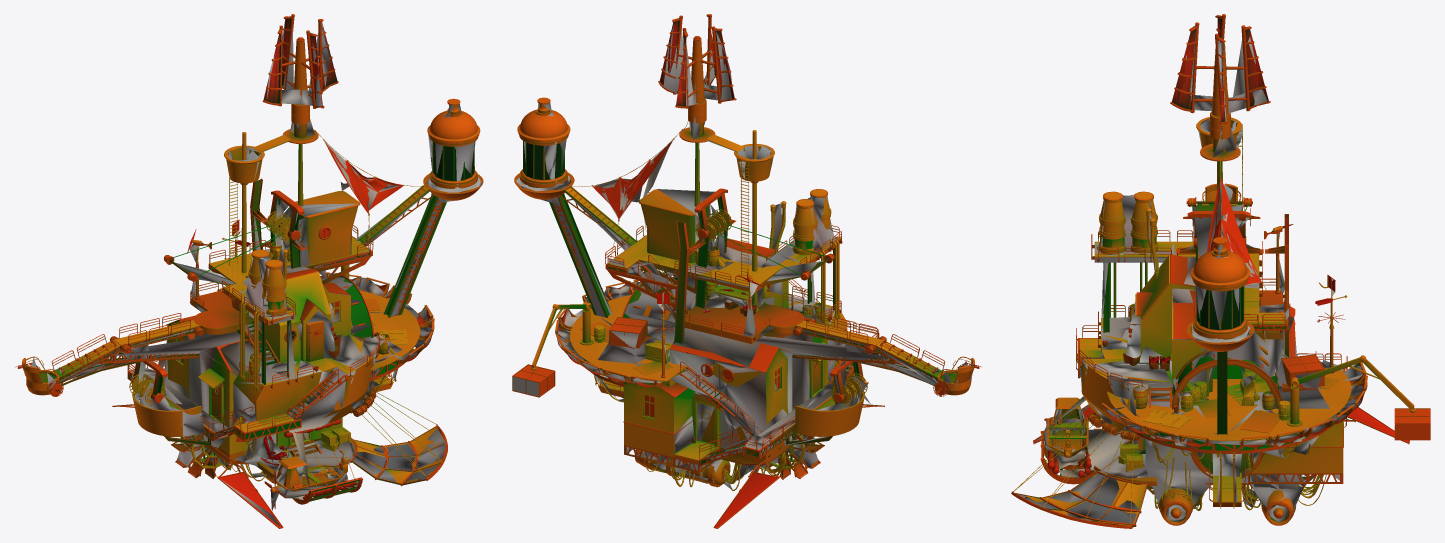
Rendered from KB3D_CSK_BldgSmFishingVillage_A.glb.
The picture shows the model from 3 angles, left to right: view 1: azimuth 30°, elevation 25°; view 2: azimuth 150°, elevation 25°; view 3: azimuth 270°, elevation 25°; orthographic projection. The views are drawn at different scales.
Parts seen in each view (by area): view 1: L0, L2, L1; view 2: L0, L2, L1; view 3: L0, L2, L1.
Boxes of the visible parts, <box> form: L0: <box>15,14,483,528</box>; L2: <box>25,19,482,526</box>; L1: <box>18,16,473,527</box>; L0: <box>512,14,981,528</box>; L2: <box>513,24,973,489</box>; L1: <box>512,15,979,527</box>; L0: <box>1011,14,1430,528</box>; L2: <box>1017,29,1363,523</box>; L1: <box>1013,15,1430,526</box>.
Size of the model in its own units: 27.96 by 25.27 by 19.36.
